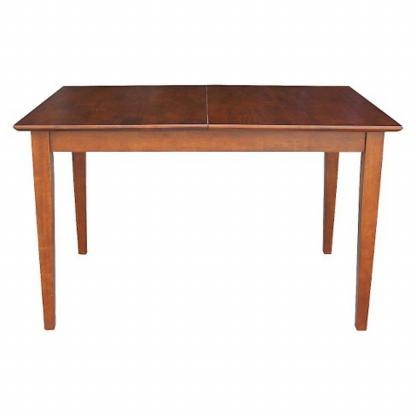Table: (5, 74, 408, 351)
